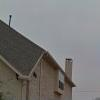Chimney: (54, 45, 82, 80)
